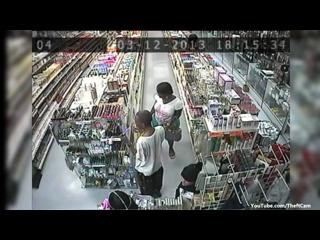Normal: (132, 110, 166, 198), (153, 82, 183, 160)
